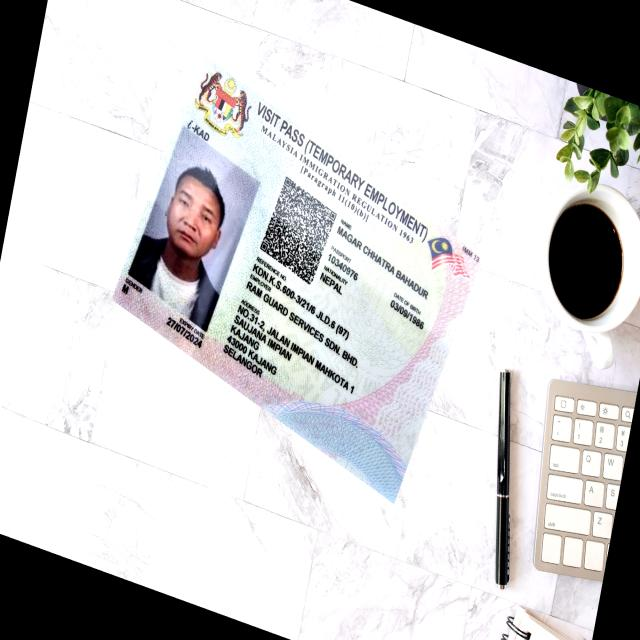ikad-temp: (108, 65, 482, 506)
